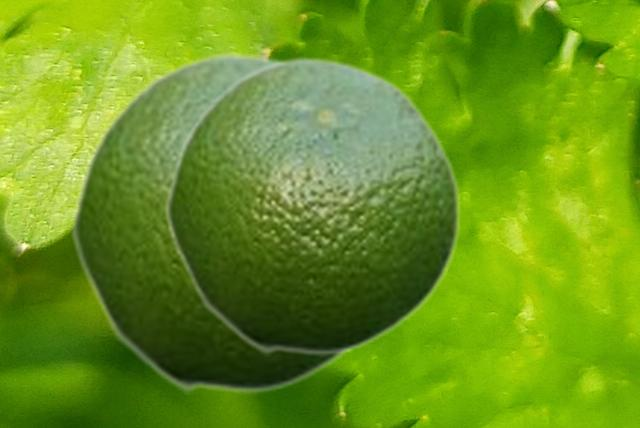calamansi: (69, 49, 358, 393), (163, 54, 461, 355)
